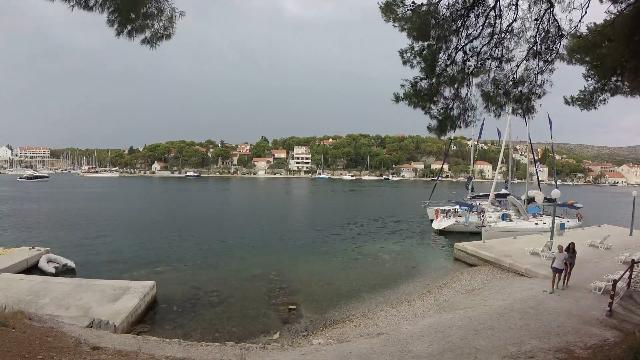speedboat: (11, 162, 55, 184)
